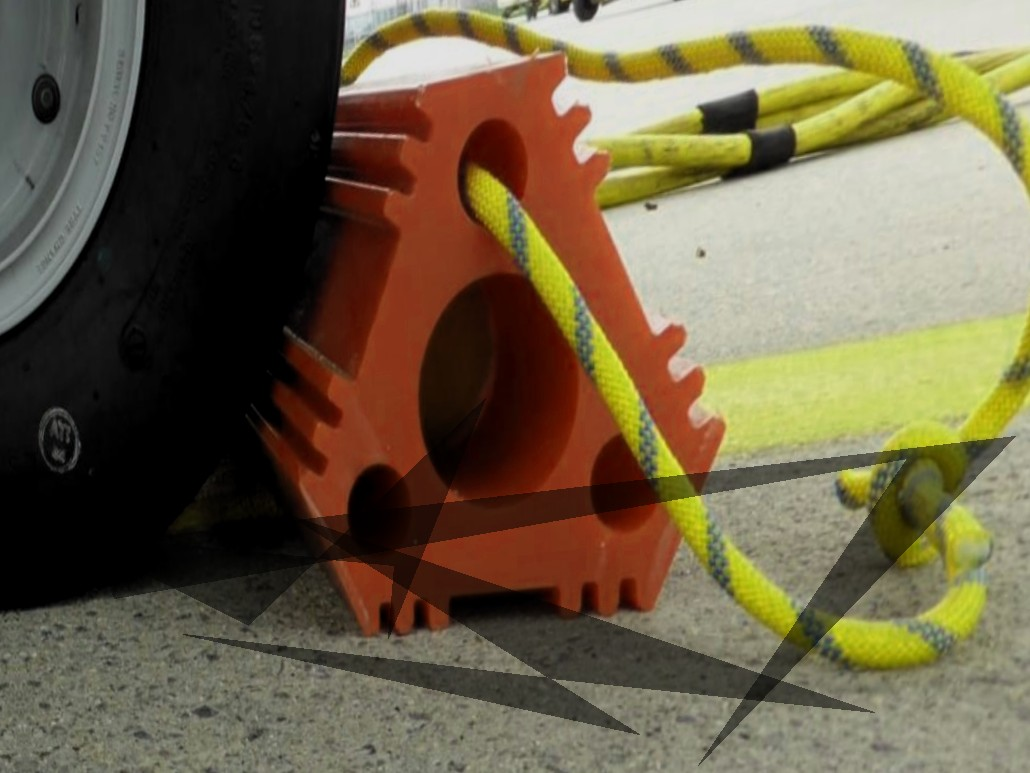chock: (213, 0, 782, 653)
wheel: (0, 0, 401, 613), (570, 0, 602, 22), (541, 0, 568, 20)
